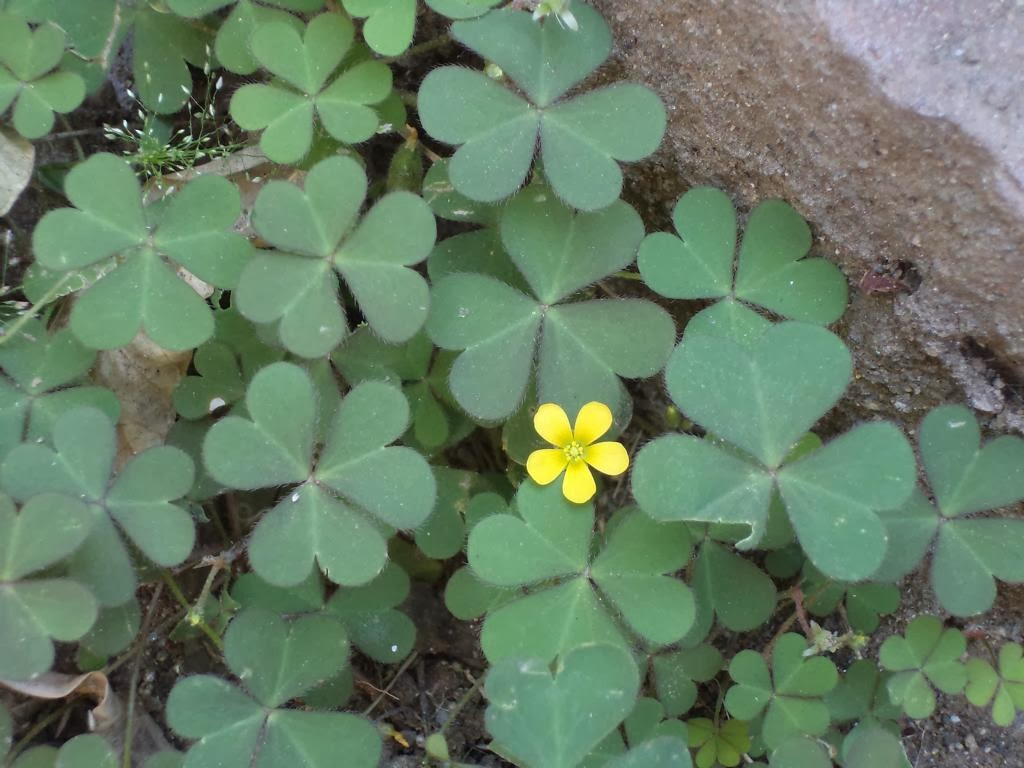oxalis: (81, 31, 1024, 762)
